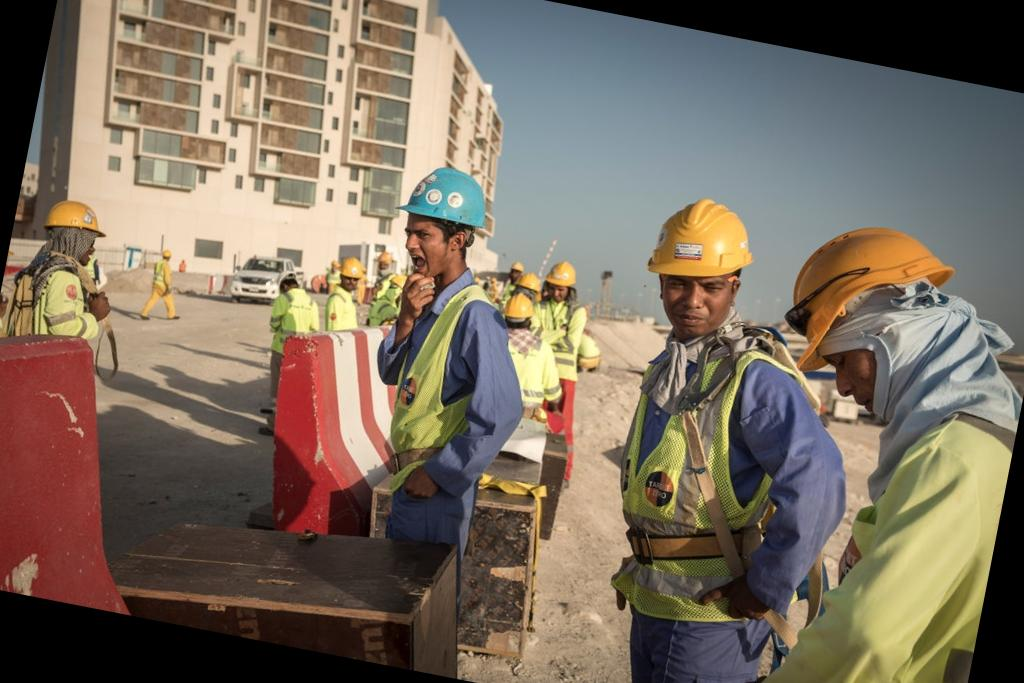helmet: (774, 214, 962, 404), (639, 188, 766, 294), (392, 156, 504, 237), (36, 192, 112, 243), (543, 256, 585, 292), (500, 290, 538, 324), (338, 253, 368, 282), (511, 270, 544, 294), (390, 272, 408, 288)
wear: (600, 332, 840, 640), (766, 406, 1014, 683), (368, 278, 513, 513), (14, 252, 104, 342), (494, 325, 563, 406), (529, 297, 589, 368), (274, 286, 318, 340), (326, 287, 362, 334)
